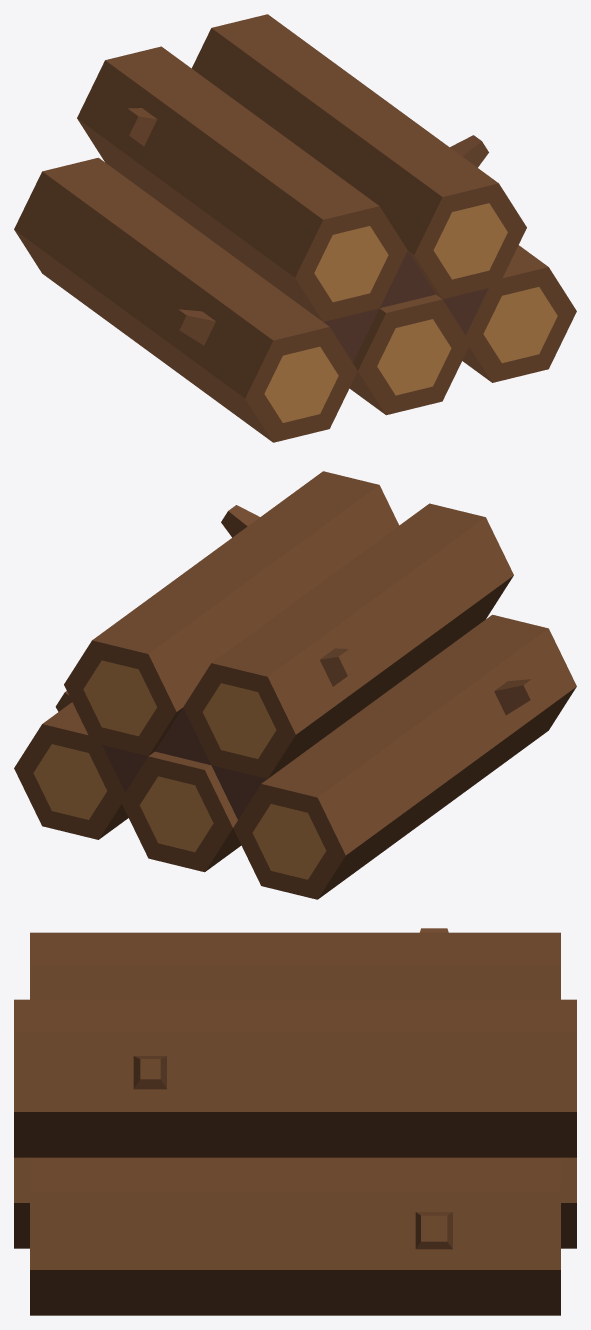
Rendered from kenney_log_stack_large.glb.
3 renders of one model, top to bottom at view 1: azimuth 30°, elevation 25°; view 2: azimuth 150°, elevation 25°; view 3: azimuth 270°, elevation 25°, orthographic. The views are drawn at different scales.
Visible parts, largest first — view 1: bark, wood; view 2: bark, wood; view 3: bark.
Boxes of the visible parts, x1,y1,x2,y2 form: bark: (14,14,576,442); wood: (264,203,557,422); bark: (14,471,576,899); wood: (33,660,326,879); bark: (14,928,576,1315).
Bounding box in the file's own units: 0.634 × 0.3464 × 0.71.
